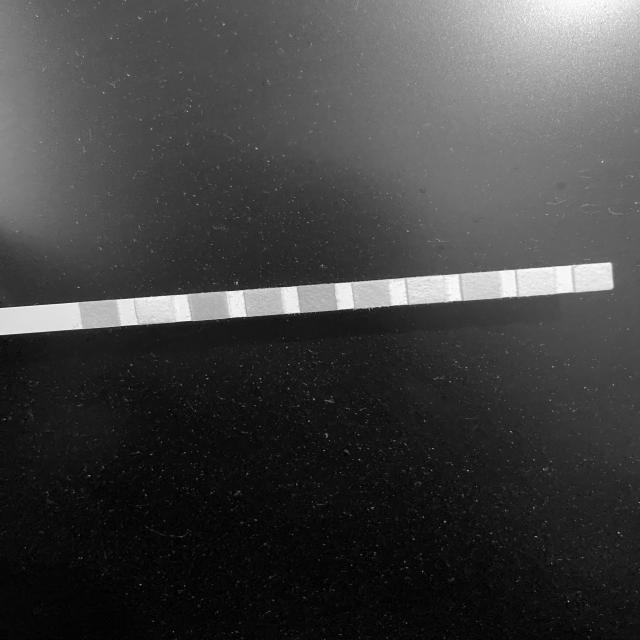Bilirubin: (140, 298, 173, 322)
Blood: (302, 286, 334, 311)
Glucose: (84, 302, 115, 326)
Ketone: (194, 294, 226, 319)
Leukocytes: (576, 265, 611, 290)
Nitrite: (520, 269, 555, 294)
Protein: (410, 278, 443, 302)
SpGravity: (248, 290, 280, 315)
Urobilinogen: (465, 274, 498, 298)
background: (0, 0, 640, 640)
pH: (357, 282, 388, 307)
strip: (0, 262, 614, 335)
